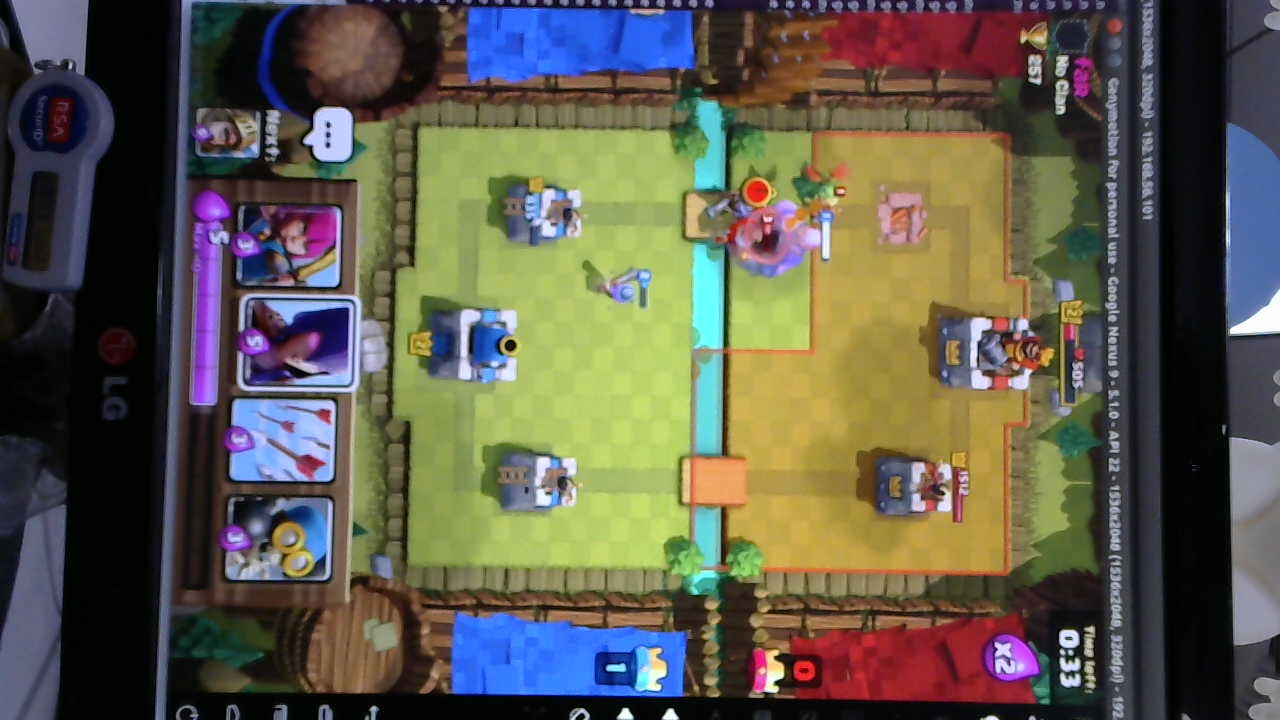arena: (500, 448, 586, 515), (501, 179, 587, 244)
darena: (874, 186, 930, 243)
dragon: (793, 162, 849, 210)
earena: (871, 455, 952, 521)
eking: (943, 313, 1037, 397)
giant: (762, 196, 818, 280)
king: (429, 301, 522, 386)
musketeer: (599, 265, 652, 310), (709, 187, 759, 219)
